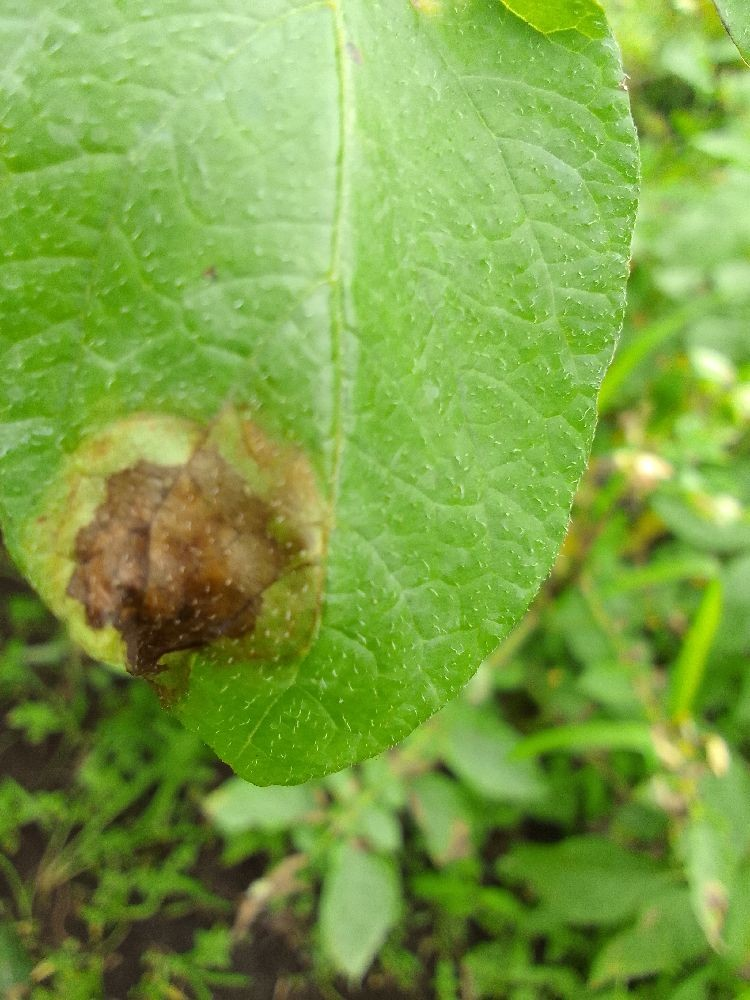late_blight: (34, 402, 345, 718), (558, 738, 683, 874), (443, 807, 539, 894), (488, 674, 575, 741)
